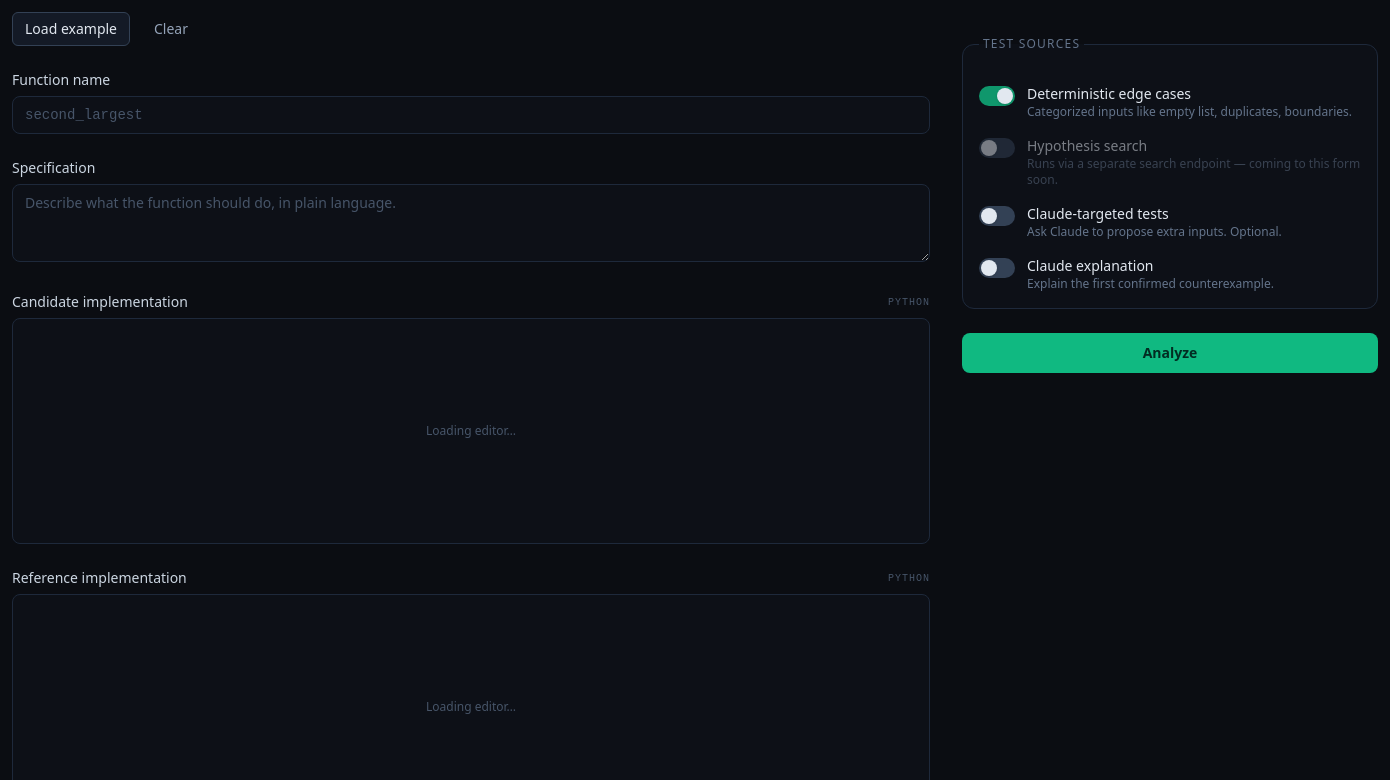
SubmissionForm (async flow) › loads the second_largest example into the fields
Click the button "Load example": (71, 29) [12,12,130,46]
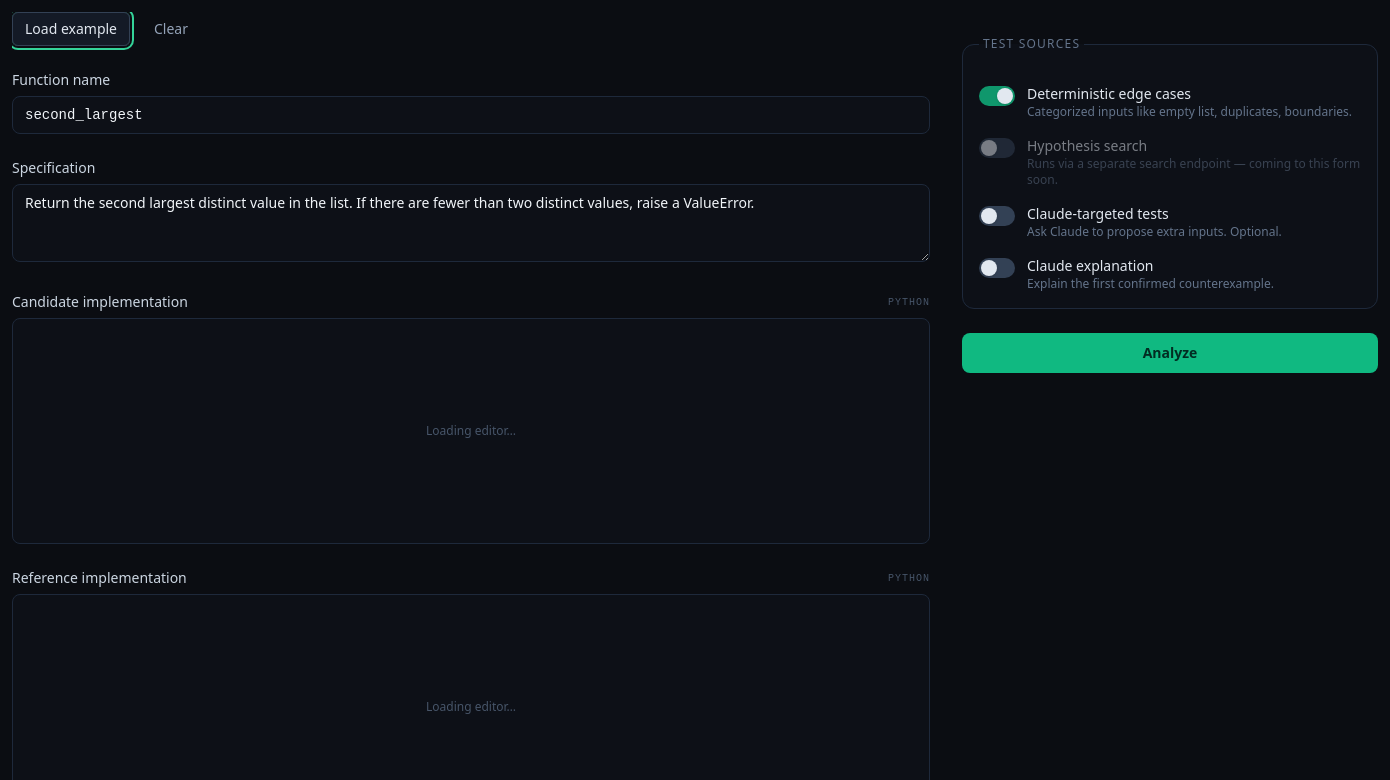
Expected: the field labelled "Function name" holds "second_largest", [12,96,930,134]
